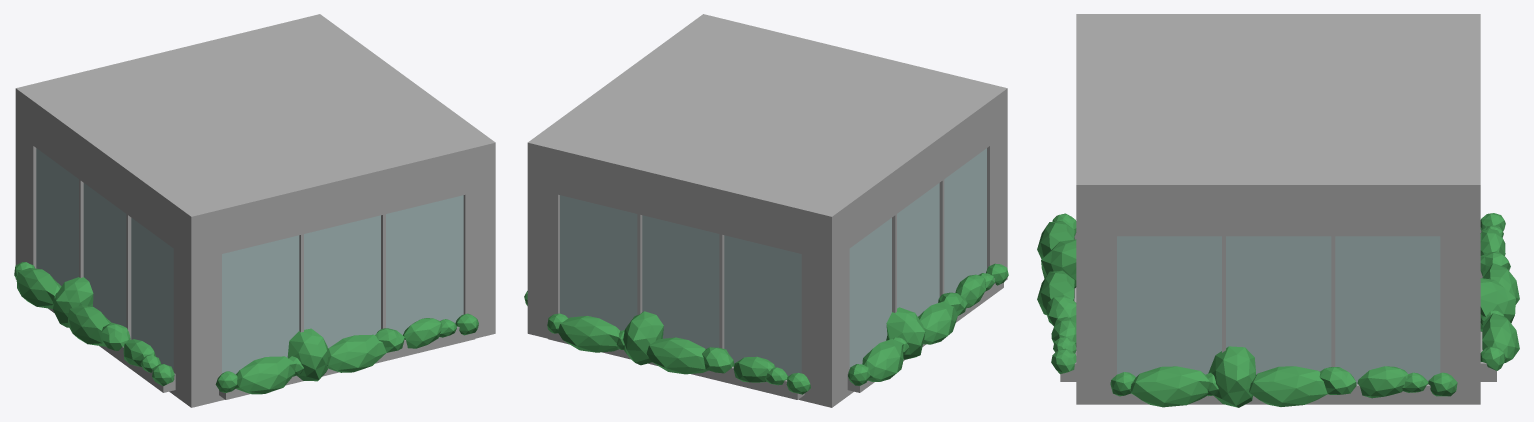
File: MidElement2.fbx
3 views of the same model, side by side, from view 1: azimuth 30°, elevation 25°; view 2: azimuth 150°, elevation 25°; view 3: azimuth 270°, elevation 25° (orthographic). The views are drawn at different scales.
Parts seen in each view (by area): view 1: Cube.034; view 2: Cube.034; view 3: Cube.034.
Part boxes in pixels (x1,y1,x2,y2): Cube.034: [14, 14, 495, 407]; Cube.034: [524, 14, 1008, 407]; Cube.034: [1037, 14, 1519, 407].
Size of the model in its own units: 119 by 60 by 119.
